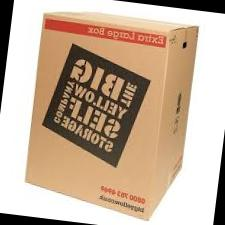cardboard: (15, 0, 215, 224)
